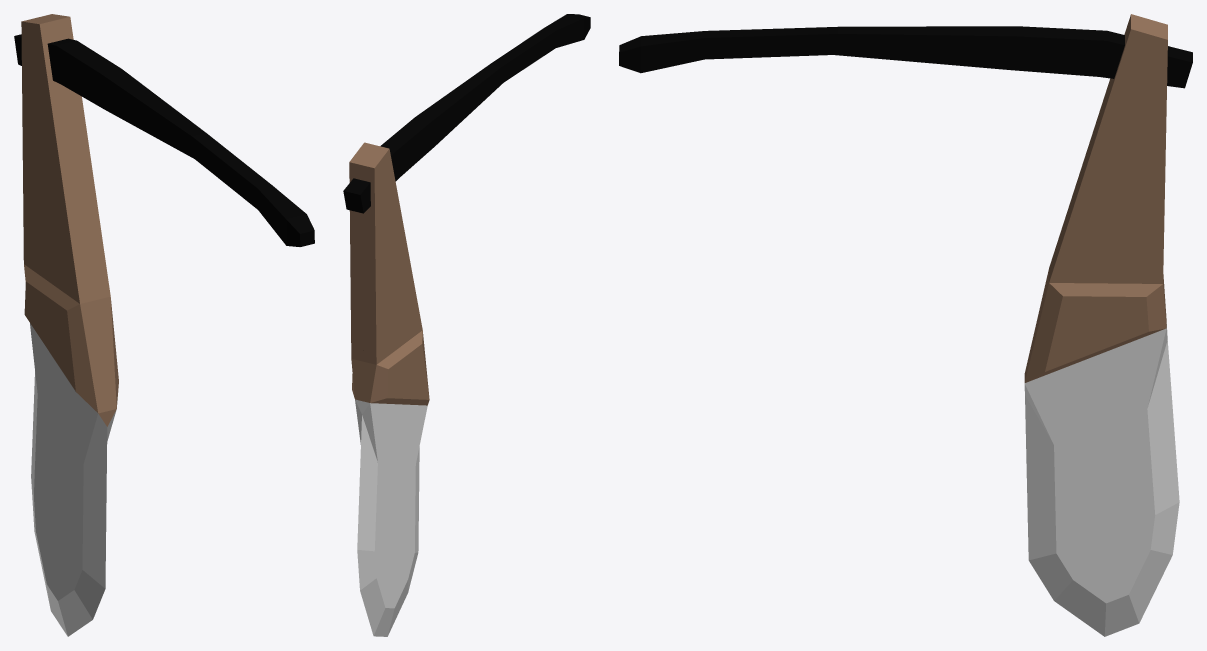
The model's file is lug_boat_helm.gltf.
The picture shows the model from 3 angles, left to right: view 1: azimuth 30°, elevation 25°; view 2: azimuth 150°, elevation 25°; view 3: azimuth 270°, elevation 25°; orthographic projection. The views are drawn at different scales.
Parts seen in each view (by area): view 1: Plane.002; view 2: Plane.002; view 3: Plane.002.
Boxes of the visible parts, x1,y1,x2,y2 form: Plane.002: [14, 14, 314, 636]; Plane.002: [343, 14, 590, 636]; Plane.002: [619, 14, 1192, 636].
Size of the model in its own units: 0.1144 by 1.54 by 1.3.
